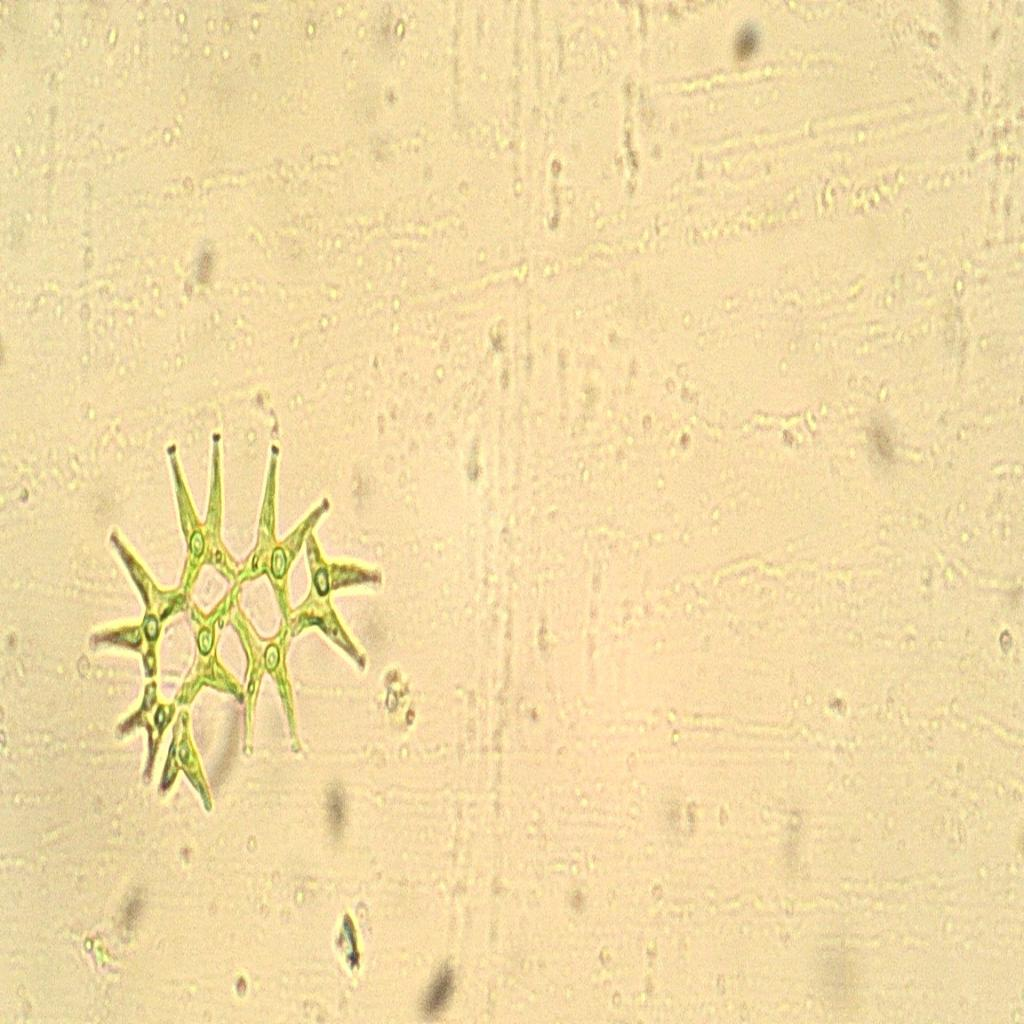Pediastrum_CFI: (82, 392, 410, 830)
